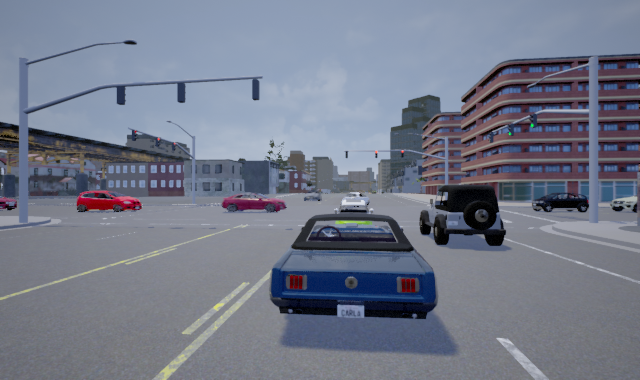vehicle: (268, 211, 438, 321), (417, 183, 508, 247), (330, 203, 375, 243), (75, 190, 142, 212), (220, 192, 285, 213), (528, 192, 592, 212), (608, 191, 639, 212), (1, 192, 17, 212), (303, 191, 322, 202)
